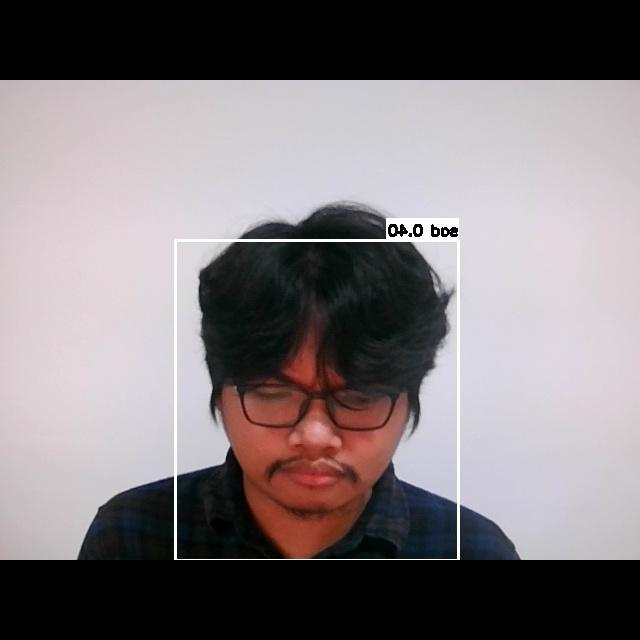Angry: (233, 346, 391, 497)
